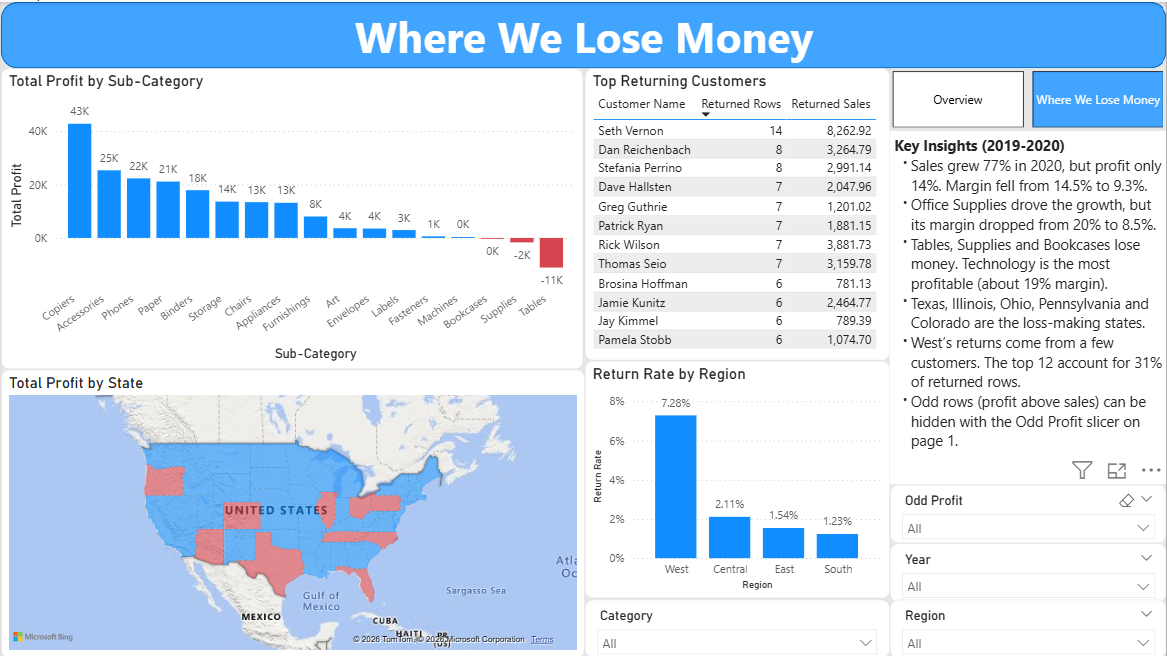

This screenshot's page, from the dashboard's own definition file:
{"tool":"powerbi","page":{"name":"Where We Lose Money","canvas":[1280,720],"ordinal":1},"visuals":[{"type":"clusteredColumnChart","fields":{"Y":["sales_data (1).Total Profit"],"Category":["sales_data (1).Sub-Category"]},"box":[0,72.7,639.5,330.7],"z":0},{"type":"shape","box":[0,0,1280.3,72.7],"z":1000},{"type":"filledMap","fields":{"Category":["sales_data (1).State"]},"box":[0,403.4,640.8,317],"z":2000},{"type":"clusteredColumnChart","fields":{"Y":["sales_data (1).Return Rate"],"Category":["sales_data (1).Region"]},"box":[640.8,393.8,334.8,260.7],"z":3000},{"type":"tableEx","title":"Top Returning Customers","fields":{"Values":["sales_data (1).Customer Name","sales_data (1).Returned Rows","sales_data (1).Returned Sales"]},"box":[640.8,72.7,334.8,321.1],"z":4000},{"type":"textbox","box":[975.6,141.3,304.6,388.3],"z":5000},{"type":"pageNavigator","box":[975.6,72.7,304.6,68.6],"z":5001},{"type":"slicer","fields":{"Values":["sales_data (1).Year"]},"box":[975.6,594.2,304.6,64.5],"z":5002},{"type":"slicer","fields":{"Values":["sales_data (1).Region"]},"box":[975.6,655.9,304.6,64.5],"z":5003},{"type":"slicer","fields":{"Values":["sales_data (1).Category"]},"box":[640.8,655.9,334.8,64.5],"z":5004},{"type":"slicer","fields":{"Values":["sales_data (1).Odd Profit"]},"box":[975.6,529.7,304.6,64.5],"z":5005}]}

Visuals, with their boxes in screenshot pixels (x1, y1, x2, y2), scaled from the page's 1280x720 canvas onto the 1167x656 screenshot:
clusteredColumnChart - sales_data (1).Total Profit x sales_data (1).Sub-Category: 0/66/583/368
shape: 0/0/1166/66
filledMap - sales_data (1).State: 0/368/584/655
clusteredColumnChart - sales_data (1).Return Rate x sales_data (1).Region: 584/359/889/596
"Top Returning Customers" tableEx: 584/66/889/359
textbox: 889/129/1166/483
pageNavigator: 889/66/1166/129
slicer - sales_data (1).Year: 889/541/1166/600
slicer - sales_data (1).Region: 889/598/1166/655
slicer - sales_data (1).Category: 584/598/889/655
slicer - sales_data (1).Odd Profit: 889/483/1166/541
